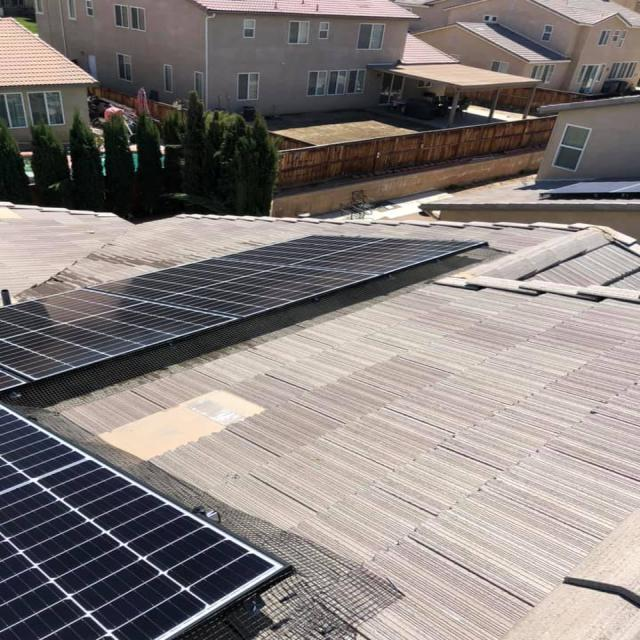clean-solar-panel: (2, 409, 283, 640)
dust-solar-panel: (0, 235, 483, 405)
